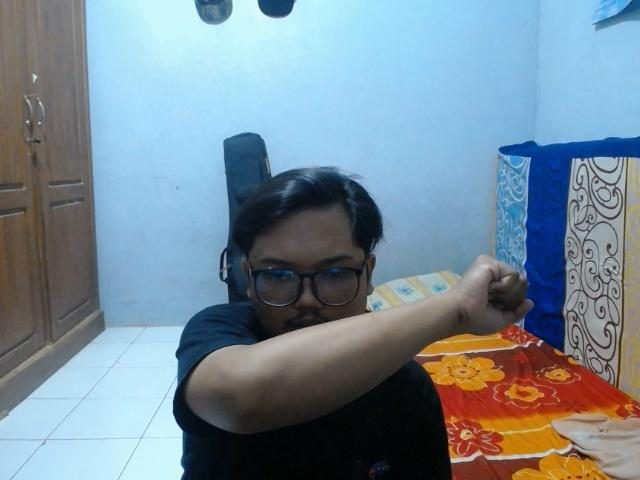Grab: (453, 248, 537, 338)
